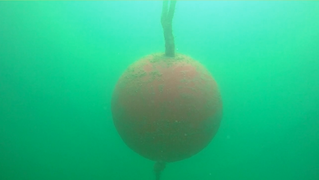bubble: (102, 105, 107, 111), (226, 135, 231, 140), (208, 172, 212, 176)
buoy: (110, 51, 223, 164)
